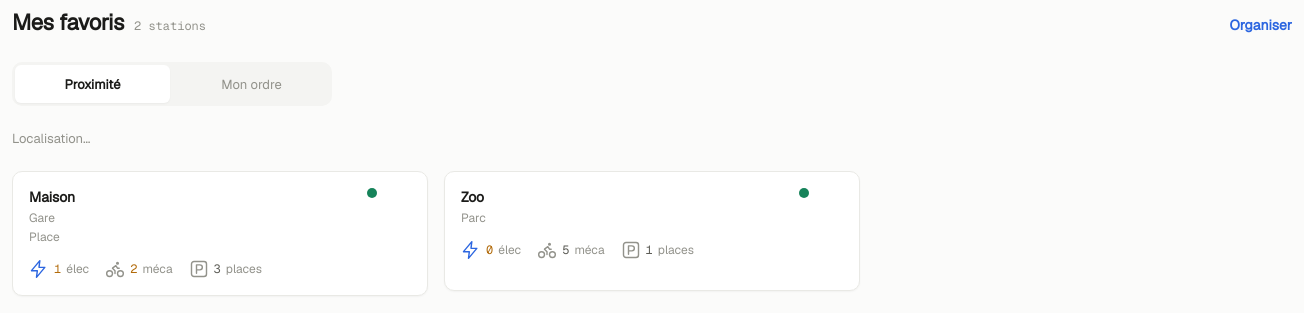
Test: page Favoris › Organiser : descendre un favori envoie le nouvel ordre
This screenshot has width=1304, height=313.
Expected: the text "Maison" is shown, left=29, top=188, right=75, bottom=206
Click the button "Organiser": (1261, 25) left=1229, top=12, right=1292, bottom=38
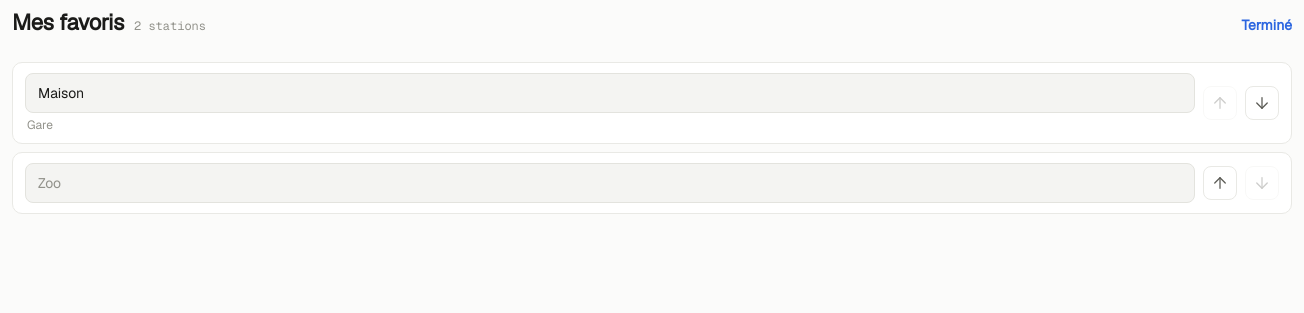
Expected: the button named "Monter Gare" is disabled, left=1203, top=86, right=1237, bottom=120
Click the button named "Descendre Gare": (1262, 103) left=1245, top=86, right=1279, bottom=120
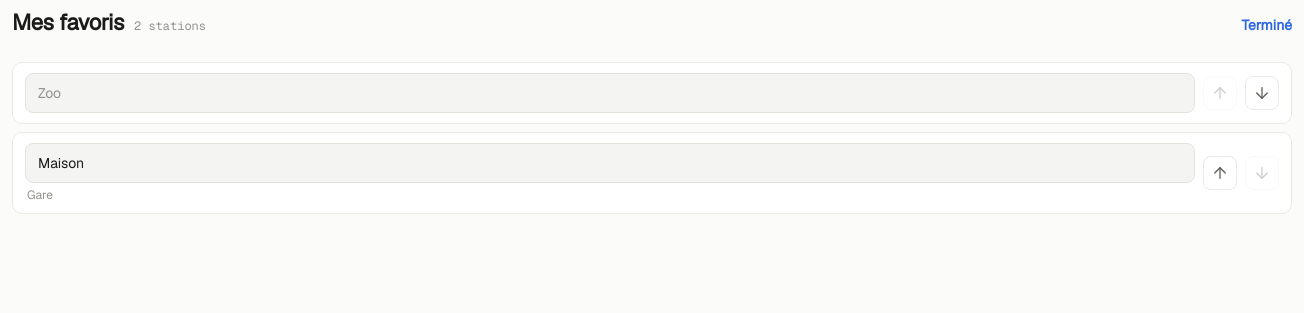
Expected: the button named "Monter Zoo" is disabled, left=1203, top=76, right=1237, bottom=110
